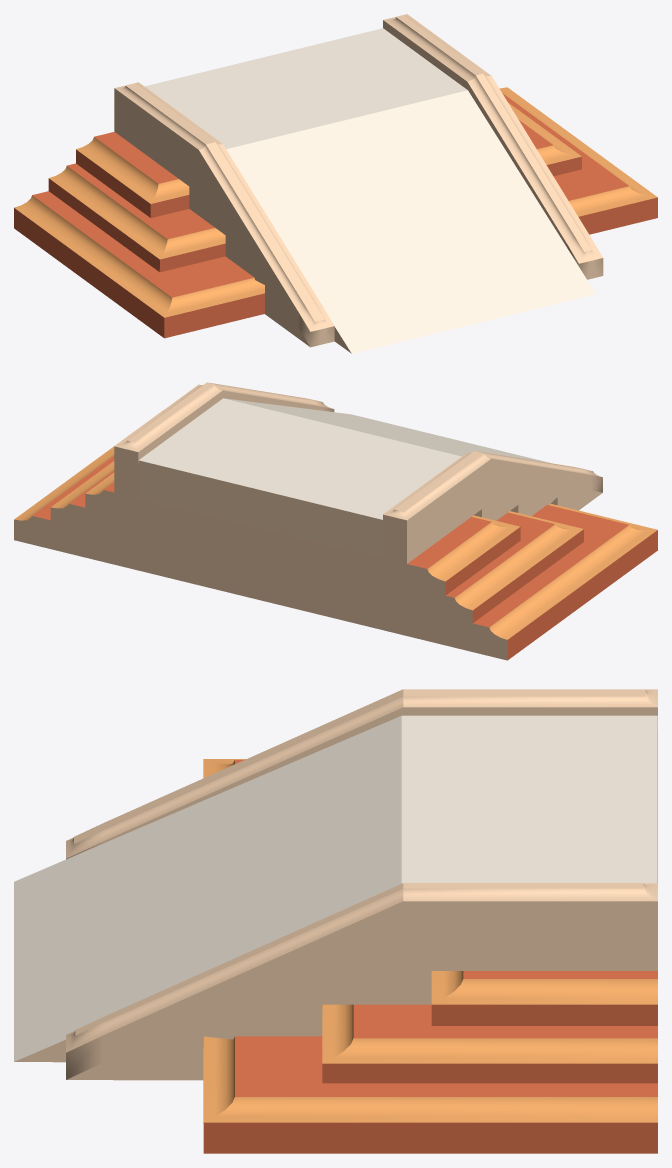
The model's file is LS_E_end_ramp.fbx.
3 renders of one model, top to bottom at view 1: azimuth 30°, elevation 25°; view 2: azimuth 150°, elevation 25°; view 3: azimuth 270°, elevation 25°, orthographic. The views are drawn at different scales.
Visible parts, largest first — view 1: Platform; view 2: Platform; view 3: Platform.
Part boxes in pixels (<box>): Platform: <box>14,14,657,353</box>; Platform: <box>14,382,657,660</box>; Platform: <box>14,689,657,1153</box>.
Bounding box in the file's own units: 1606 × 382 × 1202.
